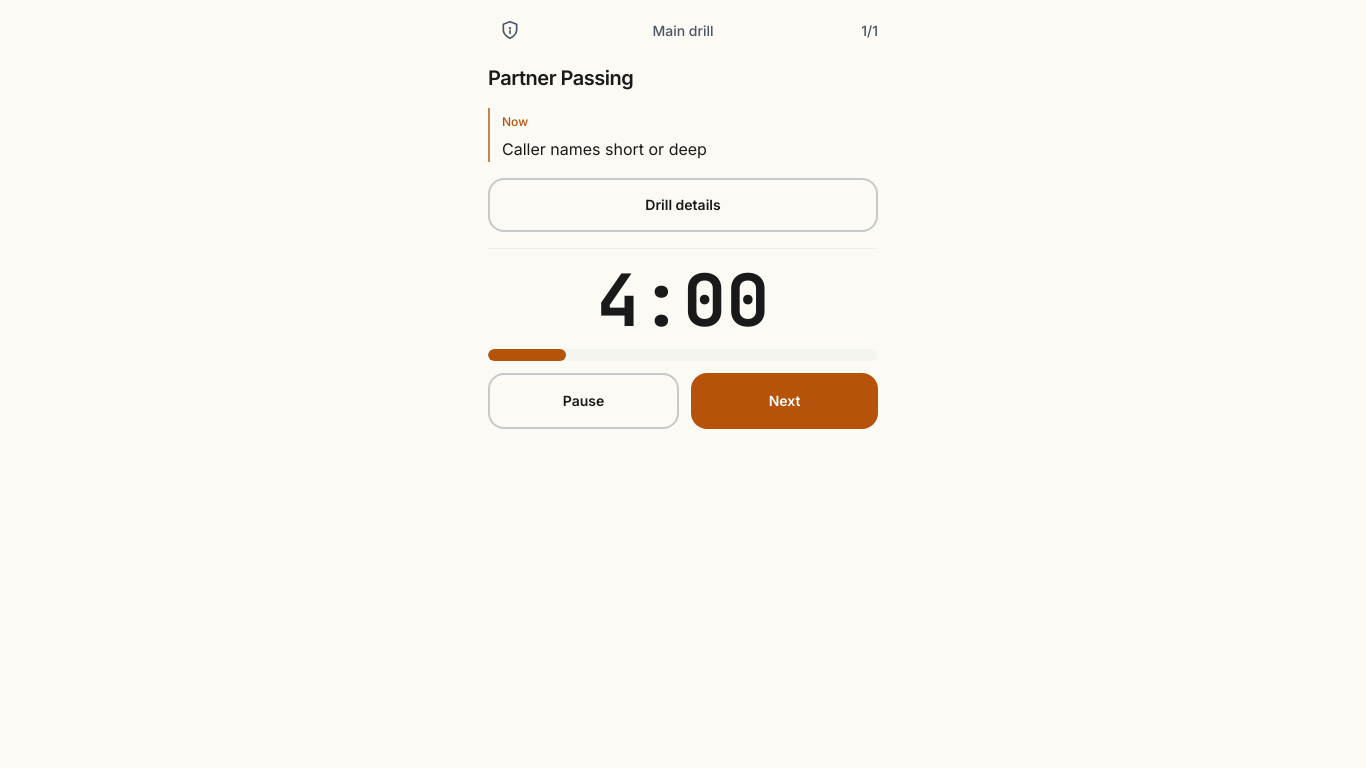
RunScreen Run Face v1 › renders one current cue and keeps the rest behind the Drill details overlay
The image size is (1366, 768).
Expected: the text "Now" is shown, left=502, top=114, right=528, bottom=129
Expected: the text "Caller names short or deep" is shown, left=502, top=139, right=707, bottom=159
Click the button "Drill details". click: [683, 205]
box: left=488, top=178, right=878, bottom=232
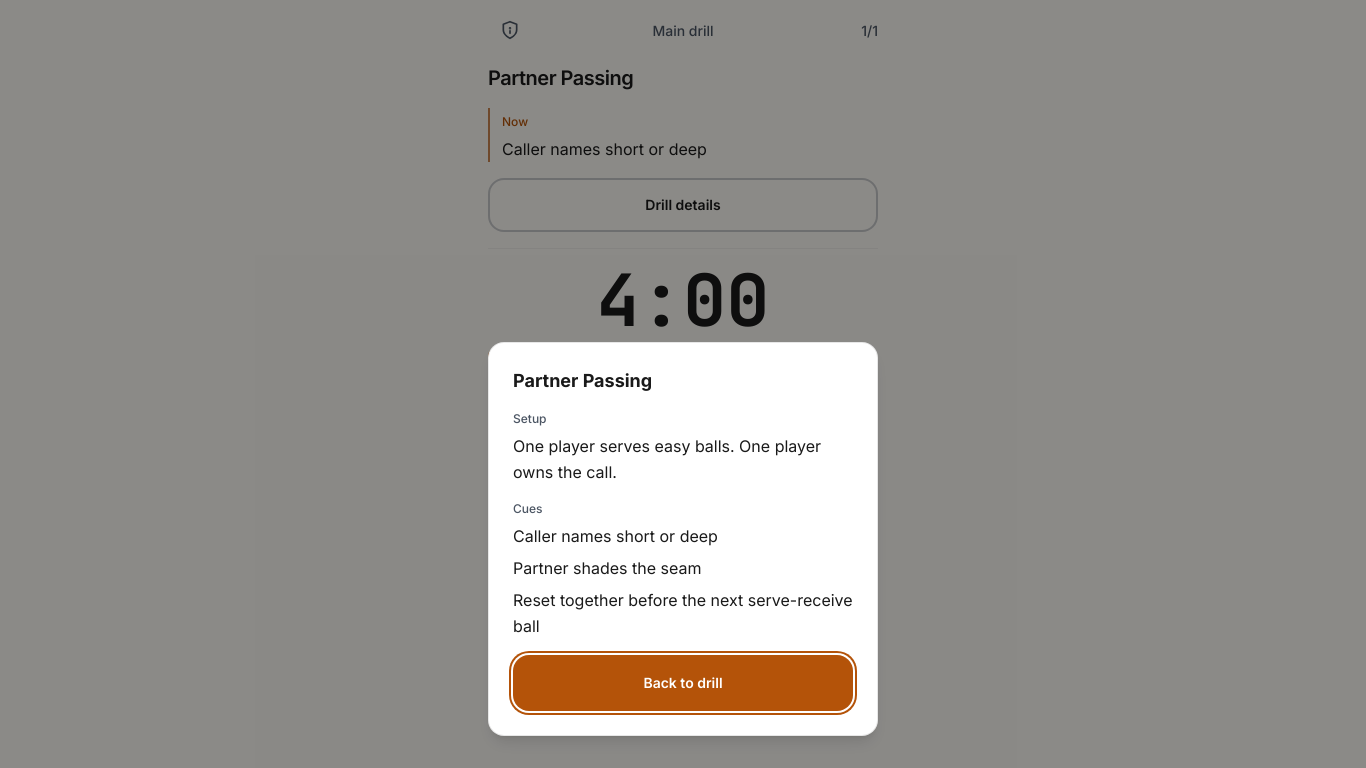
Expected: the text "Caller names short or deep" is shown, left=513, top=526, right=718, bottom=546
Expected: the text "Partner shades the seam" is shown, left=513, top=558, right=701, bottom=578
Expected: the text "One player serves easy balls. One player owns the call." is shown, left=513, top=436, right=821, bottom=482
